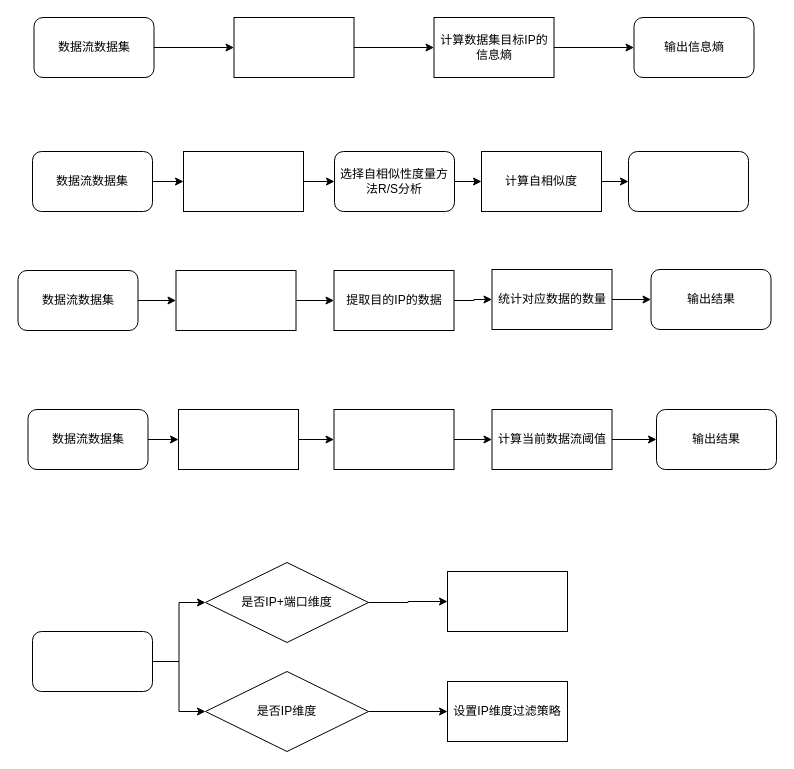
The diagram is 794 pixels wide and 769 high, and some of its shapes have lost their labels. The shapes that lost their labels are listed below. From the top down, each one's centre as x and y in pixels, then its label:
At [293,47]: "提取目标IP特征".
At [243,181]: "提取数据包的长度".
At [688,181]: "输出自相似值".
At [235,300]: "数据预处理".
At [238,439]: "查询目的IP历史流量数据".
At [393,439]: "读取动态阈值规则".
At [507,601]: "设置IP+端口维度过滤策略".
At [92,661]: "公共数据流特征".
